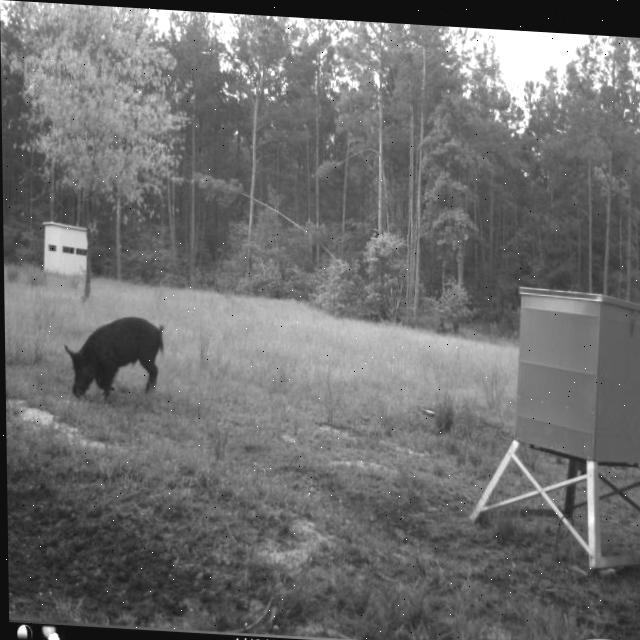Deer: (61, 307, 174, 416)
